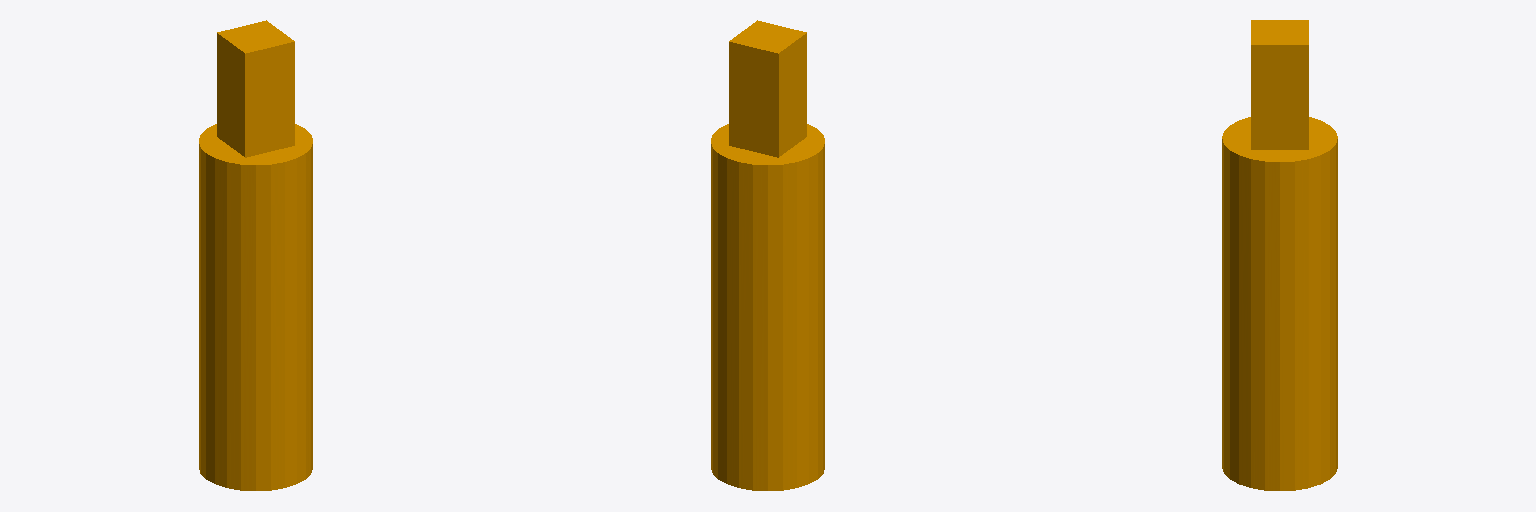
robot.urdf — 01136_plug:
<?xml version="1.0"?>
<robot name="01136_plug">
	<link name="01136_plug">
		<visual>
			<geometry>
				<mesh filename="../mesh/01136/asset_plug.obj"/>
			</geometry>
		</visual>
		<collision>
			<geometry>
				<mesh filename="../mesh/01136/asset_plug.obj"/>
			</geometry>
			<sdf resolution="256"/>
		</collision>
	</link>
</robot>

--- Facts derived from the render (not from the file) ---
Views: 3 orthographic renders of the robot side by side, from view 1: azimuth 30°, elevation 25°; view 2: azimuth 150°, elevation 25°; view 3: azimuth 270°, elevation 25°.
Robot: 01136_plug — 1 links, 0 joints (none); root link 01136_plug; default pose: every joint at zero.
Visible links, largest first — view 1: 01136_plug; view 2: 01136_plug; view 3: 01136_plug.
Link boxes in pixels (x1,y1,x2,y2): 01136_plug: (199,20,312,490); 01136_plug: (711,20,824,490); 01136_plug: (1222,20,1337,490).
Bounding box of the posed robot: 0.0128 × 0.0128 × 0.053 m (x, y, z).
Meshes: 1 distinct files referenced, 1 mesh visuals loaded (1 OBJ).